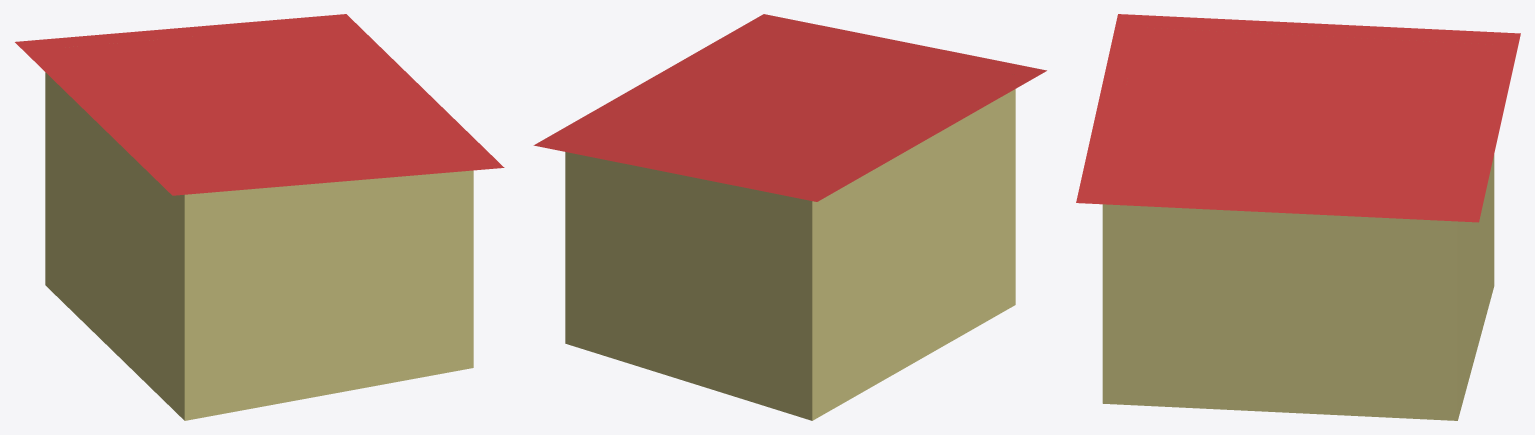
The picture shows the model from 3 angles, left to right: view 1: azimuth 30°, elevation 25°; view 2: azimuth 150°, elevation 25°; view 3: azimuth 270°, elevation 25°; orthographic projection. The views are drawn at different scales.
Bounding box in the file's own units: 8.6 × 9.25 × 5.59.
